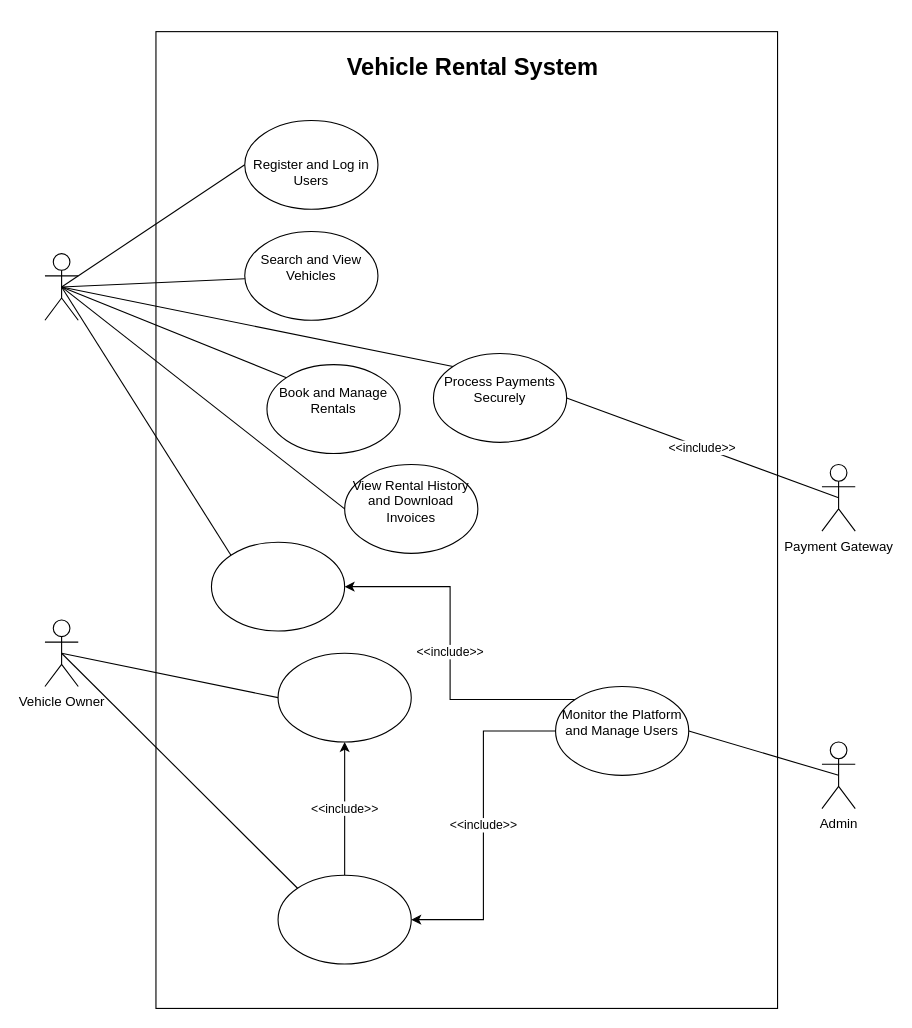
Image size: 912x1028. Some labels were removed from this diagram. The shapes that lost their labels are listed below. From the top down, each one's centre as x and y in pixels, then its label:
At (x=61, y=286): "Customer".
At (x=277, y=586): "Submit Ratings and Contact Support".
At (x=344, y=697): "Configure Pricing Rules".
At (x=344, y=919): "List and Manage Vehicles".
